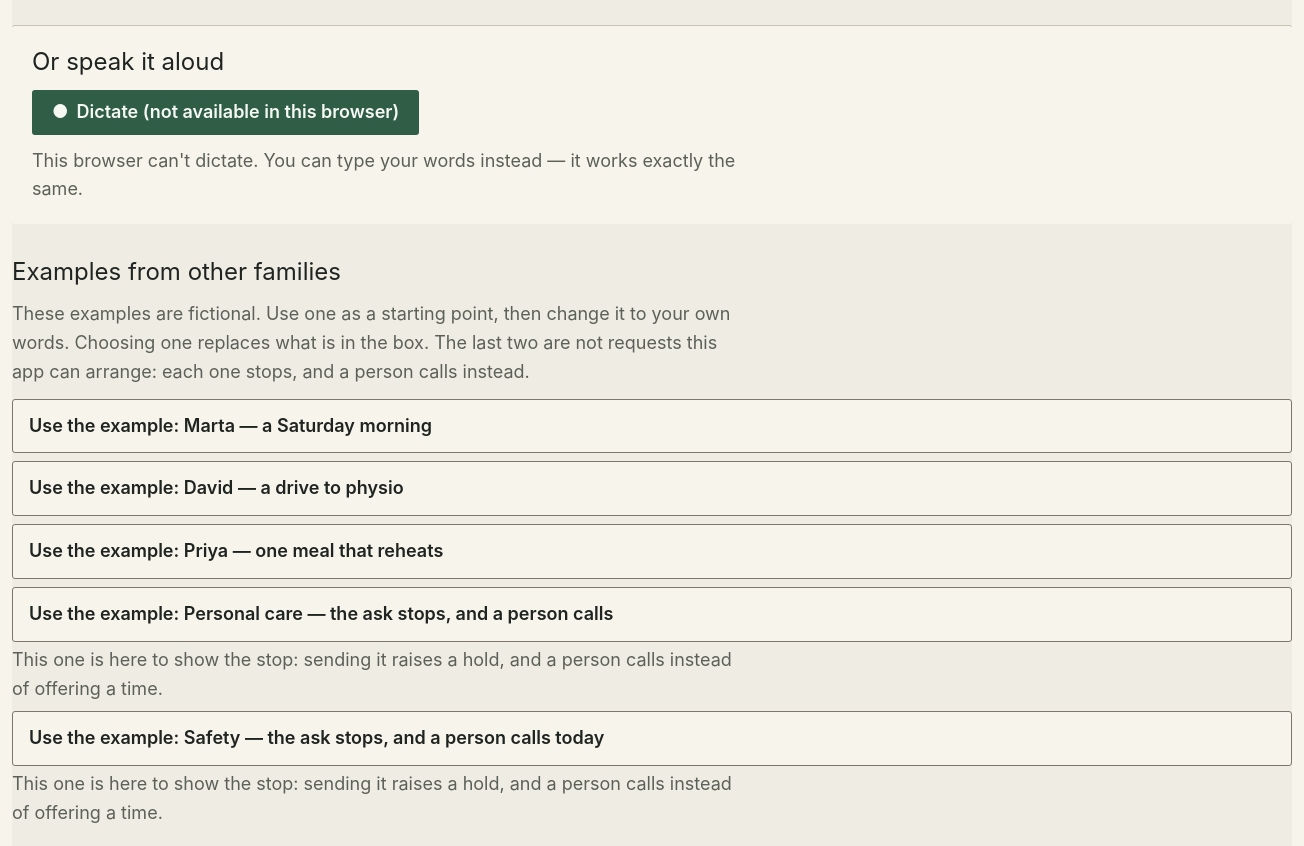
Test: AskForm examples › labels every example fictional and fills the box when one is chosen
(page scrolled)
Expected: the text "These examples are fictional" is shown, [12,303,730,382]
Click the button "Use the example: Marta — a Saturday morning".
click(106, 425)  # box [12,399,1292,454]
(page scrolled)
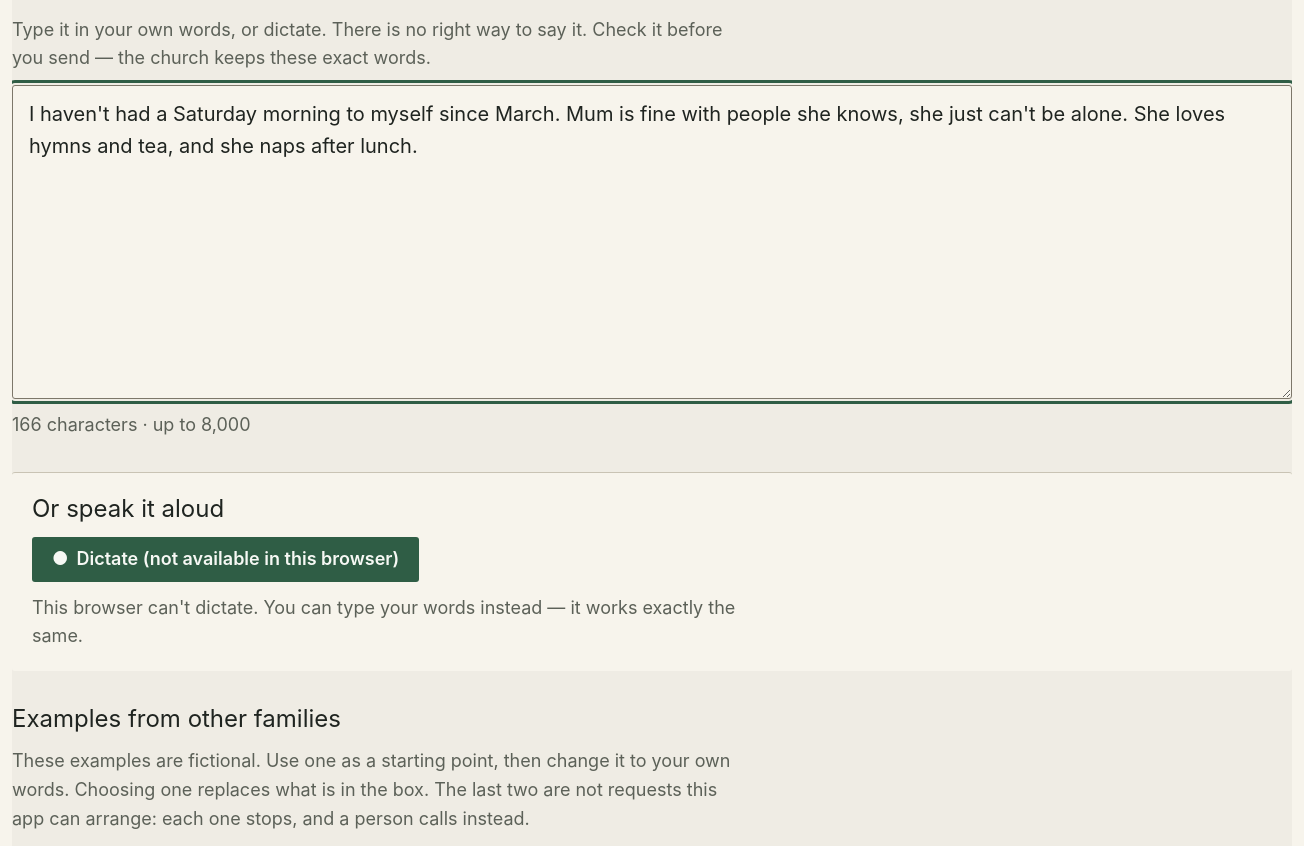
Result: the text box labelled "Tell us what a hard week looks like" holds "I haven't had a Saturday morning to myself since March. Mum is fine with people she knows, she just can't be alone. She loves hymns and tea, and she naps after " at [12,85,1292,399]
